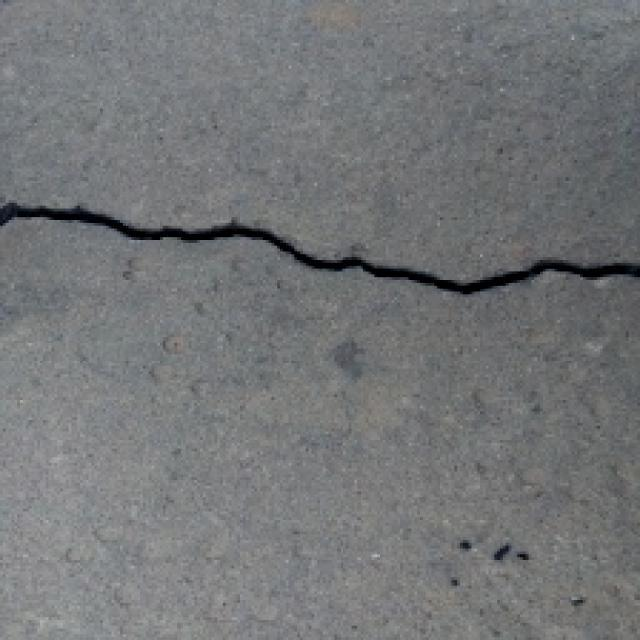crack: (6, 162, 640, 338)
